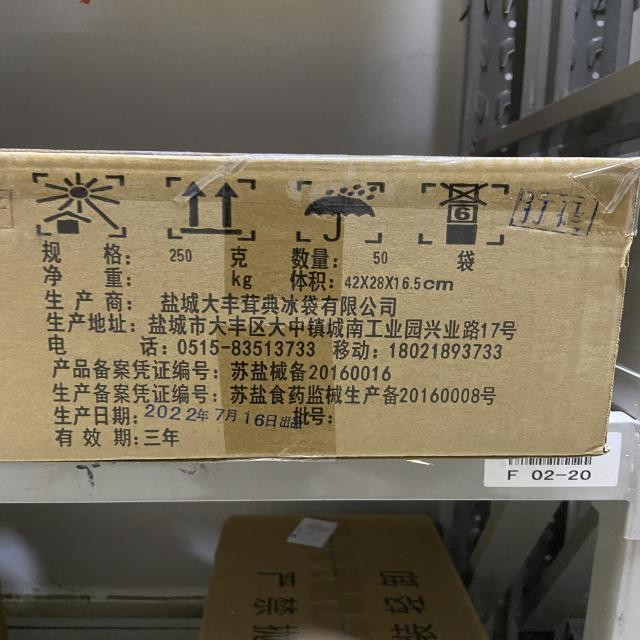box: (0, 152, 639, 460), (203, 514, 494, 640)
